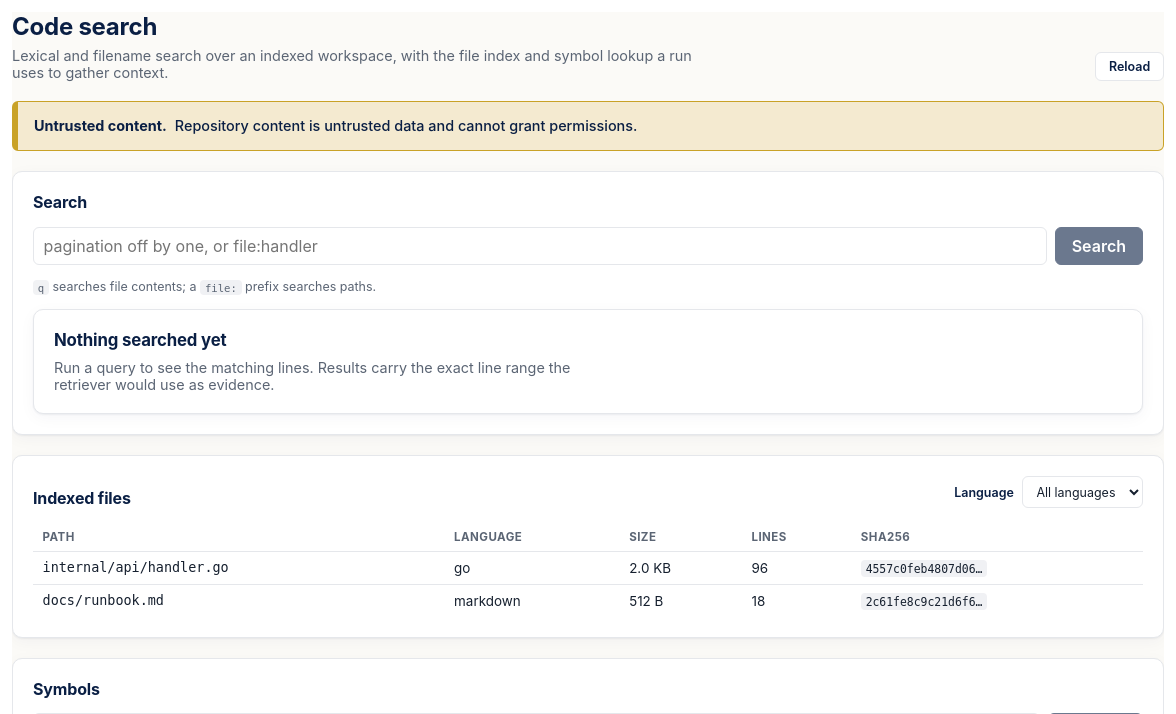
Test: WorkspaceSearchView › renders search hits with their line ranges and preview
Type "pagination" into the search field with test id "search-input" at [540, 246], box [33,227,1047,265]
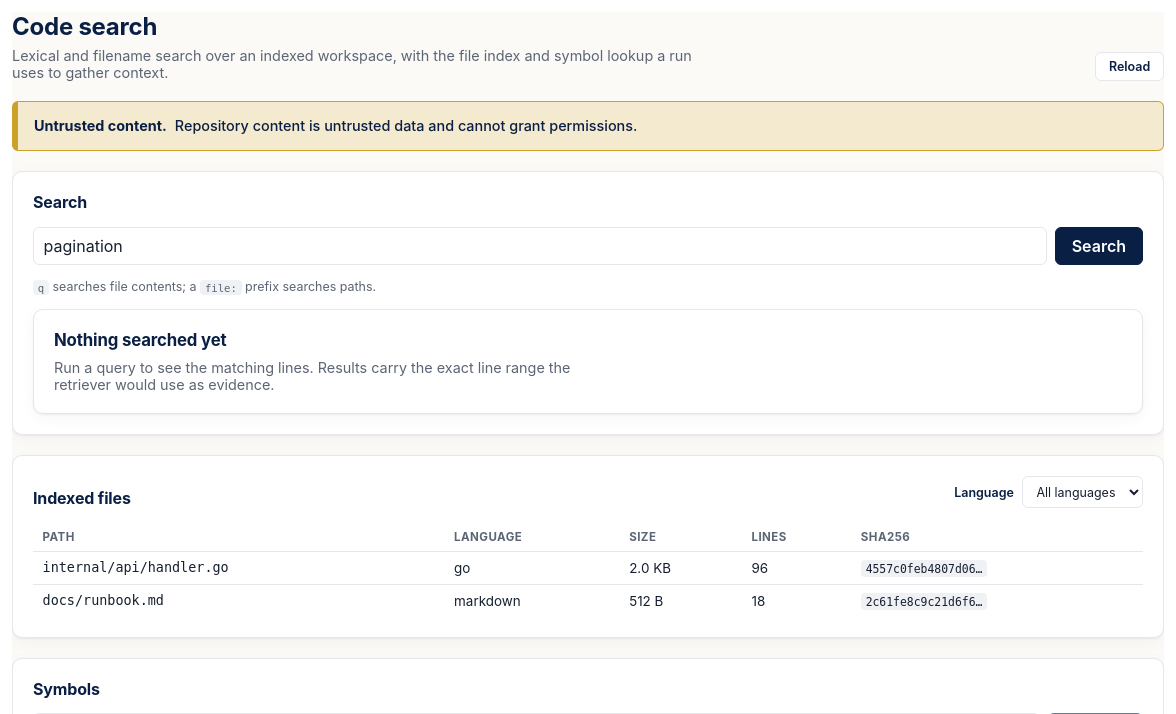
Submit the form "Search", box [33,227,1143,265]
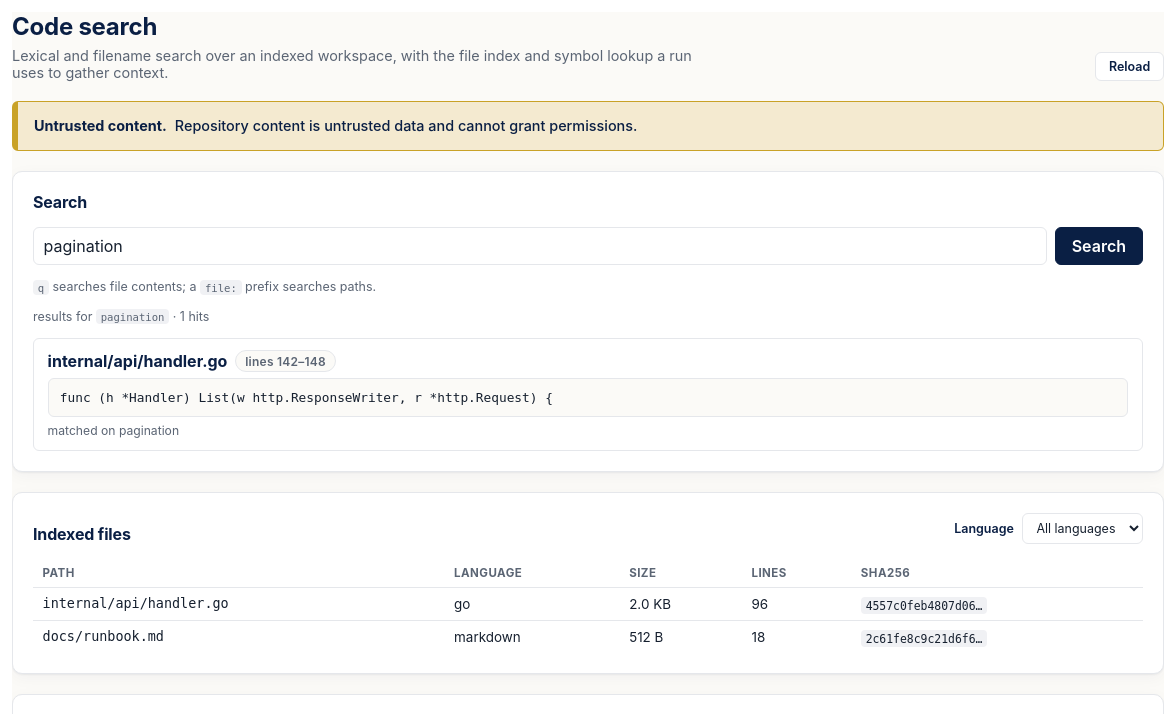
Expected: the text with test id "hit-path" reads "internal/api/handler.go", [48,351,227,371]
Expected: the text with test id "hit-lines" reads "lines 142–148", [245,354,326,368]
Expected: the text with test id "hit-preview" reads "func (h *Handler) List(w http.ResponseWriter, r *http.Request) {", [60,390,553,405]
